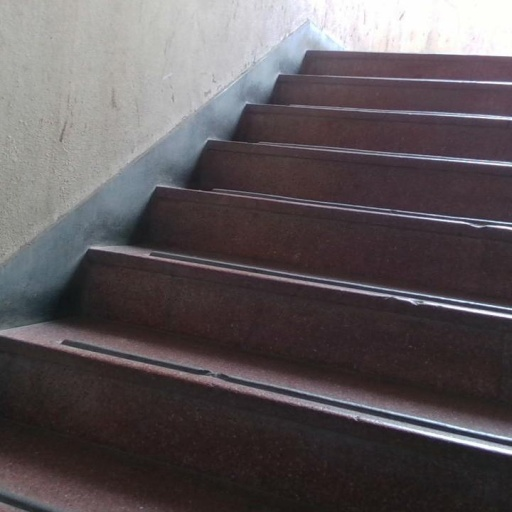Stairs: (1, 51, 512, 512)
